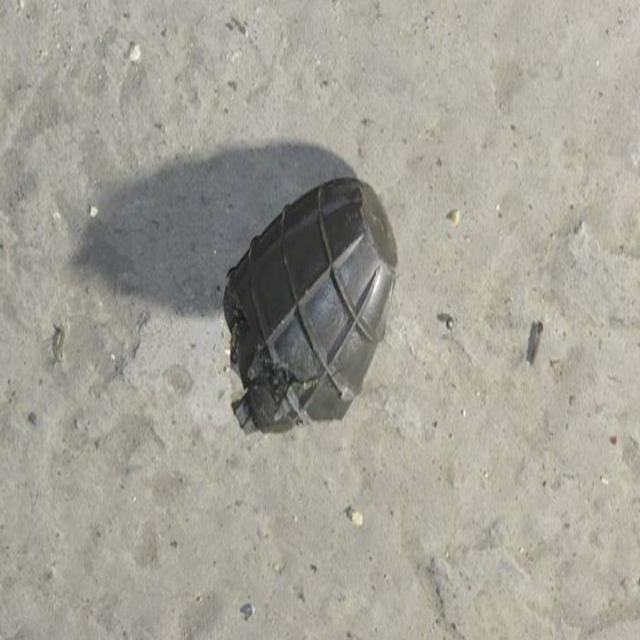grenade: (222, 180, 398, 438)
